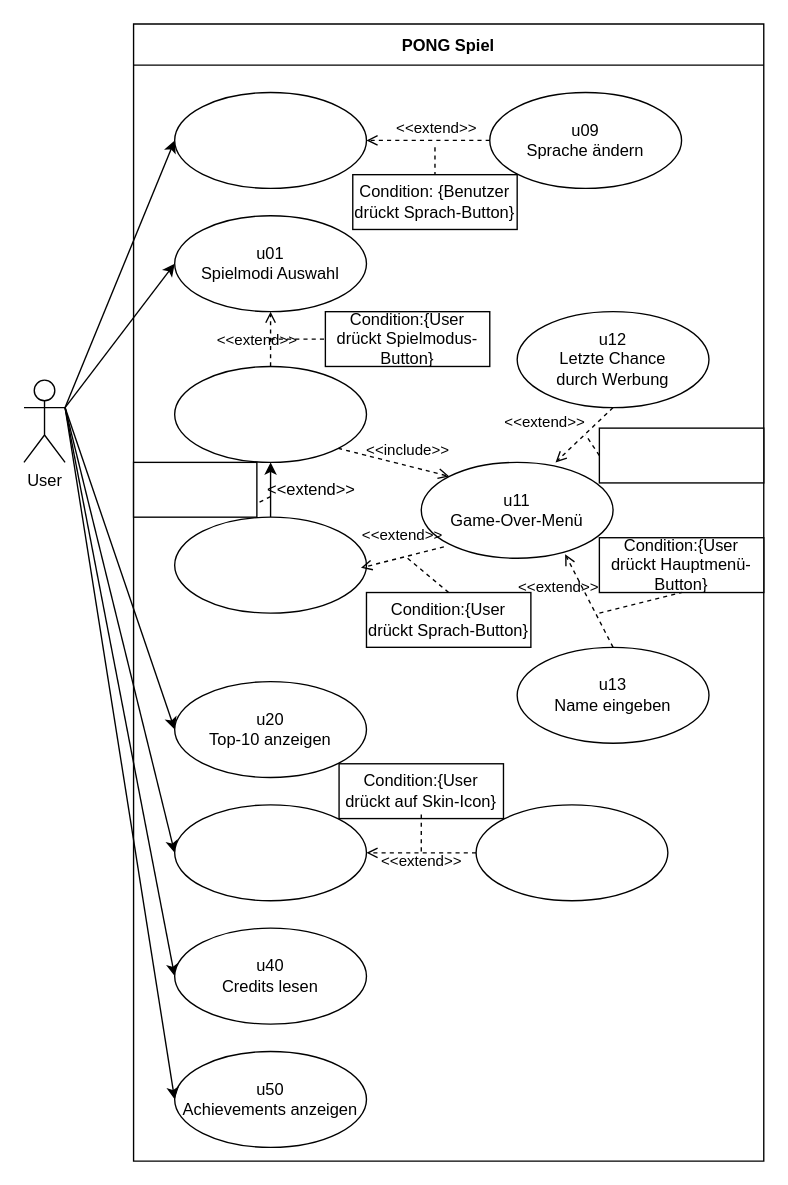
Some shapes in this 788 by 1185 pixel diagram are drawn without their labels. The shapes that lost their labels are listed below. From the top down, each one's centre as x and y in pixels, then its label:
pixel 269 139: u00 Hauptbildschirm
pixel 269 413: u02a/u02b Spiel (Classic / Invasion)
pixel 681 455: Condition:{User drückt"+❤" Knopf}
pixel 194 489: Condition:{User drückt auf Pause-Button}
pixel 269 564: u10 Pause-Menü
pixel 269 852: u30 Skins anpassen
pixel 571 852: u31 Skins kaufen
